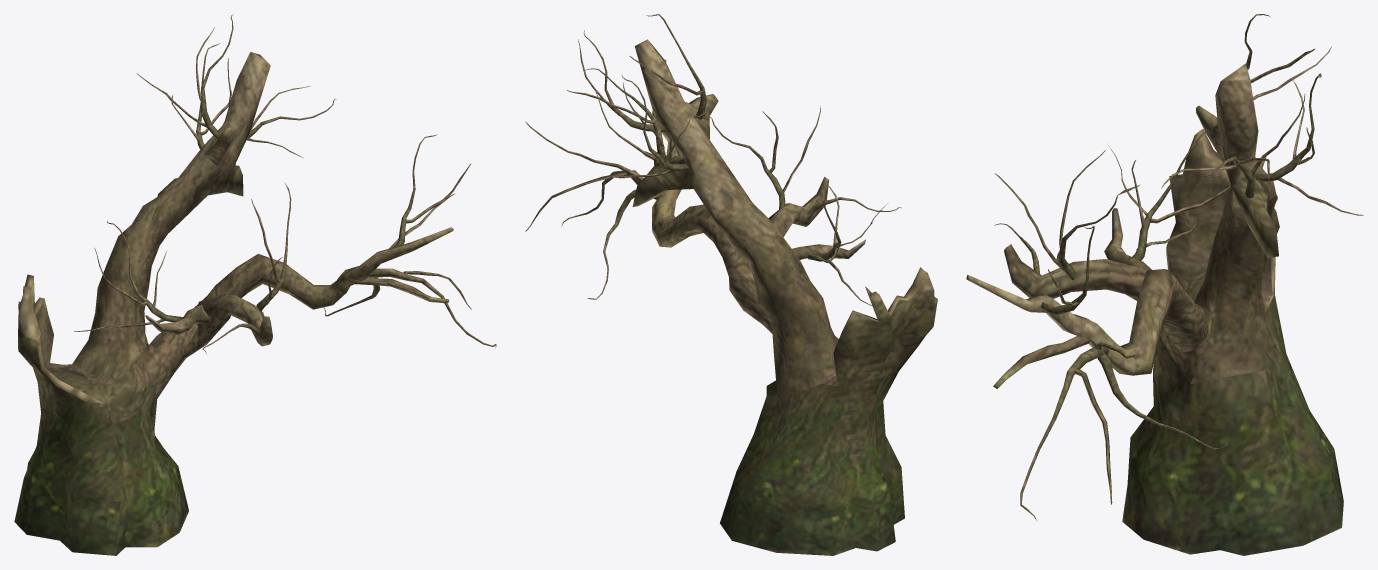
The model's file is S_Tree_Yellow067.FBX.
3 renders of one model, left to right at view 1: azimuth 30°, elevation 25°; view 2: azimuth 150°, elevation 25°; view 3: azimuth 270°, elevation 25°, orthographic. The views are drawn at different scales.
Parts seen in each view (by area): view 1: S_Tree_Yellow067; view 2: S_Tree_Yellow067; view 3: S_Tree_Yellow067.
Boxes of the visible parts, box(x1,y1,x2,y2) form: S_Tree_Yellow067: box(14, 14, 496, 555); S_Tree_Yellow067: box(525, 14, 937, 555); S_Tree_Yellow067: box(966, 14, 1363, 555).
Bounding box in the file's own units: 568 × 362 × 592.
